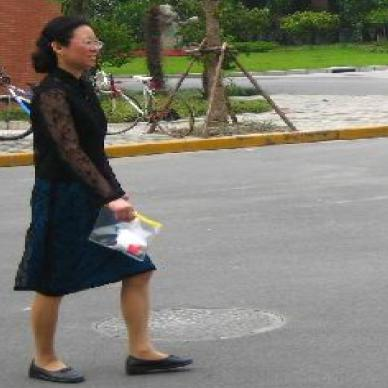ped: (15, 15, 191, 382)
